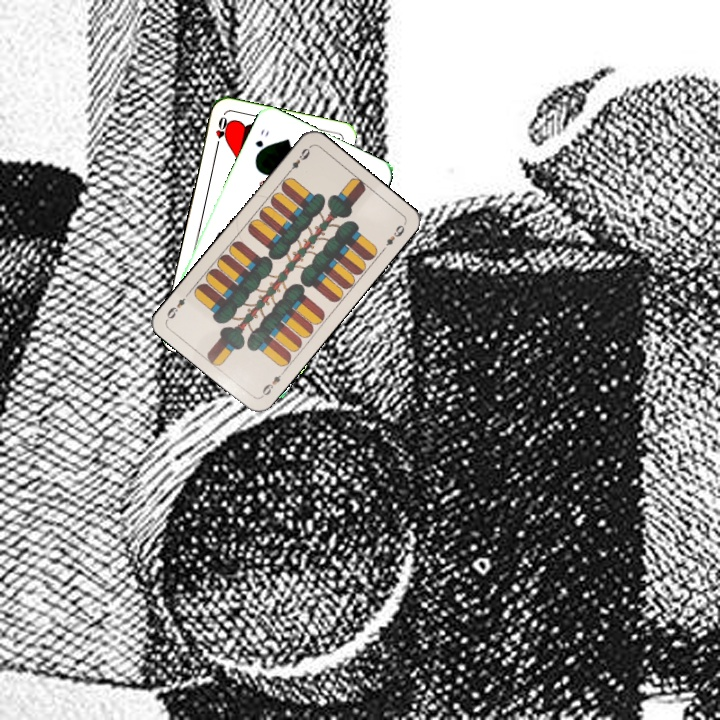E9: (257, 366, 288, 400), (283, 142, 313, 177)
GO: (251, 125, 272, 160)
HO: (212, 112, 231, 151)
